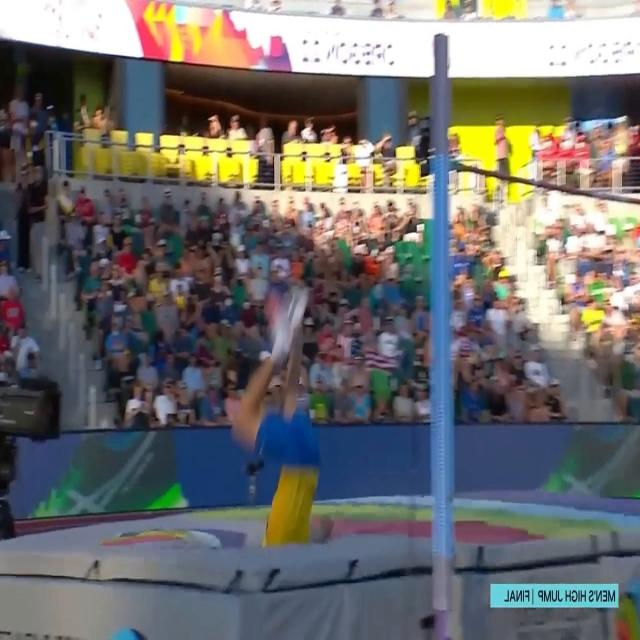land: (229, 279, 336, 546)
